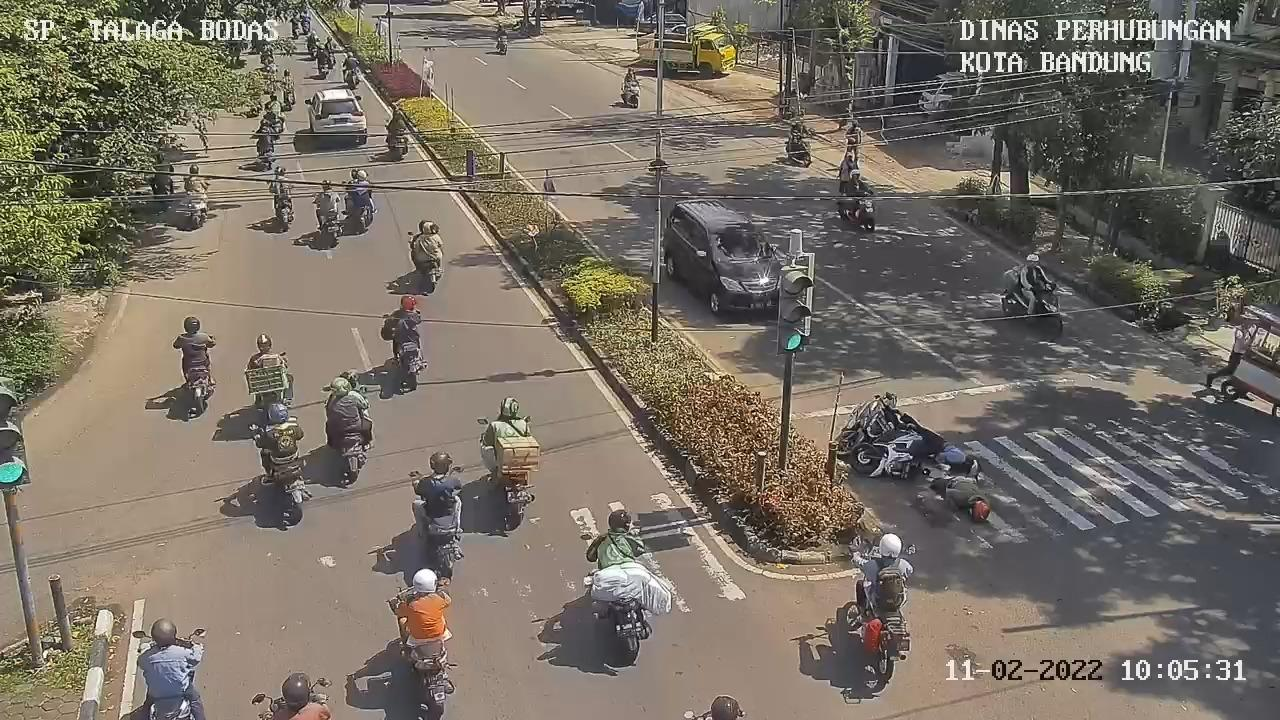accident: (882, 397, 993, 477), (928, 468, 993, 523)
